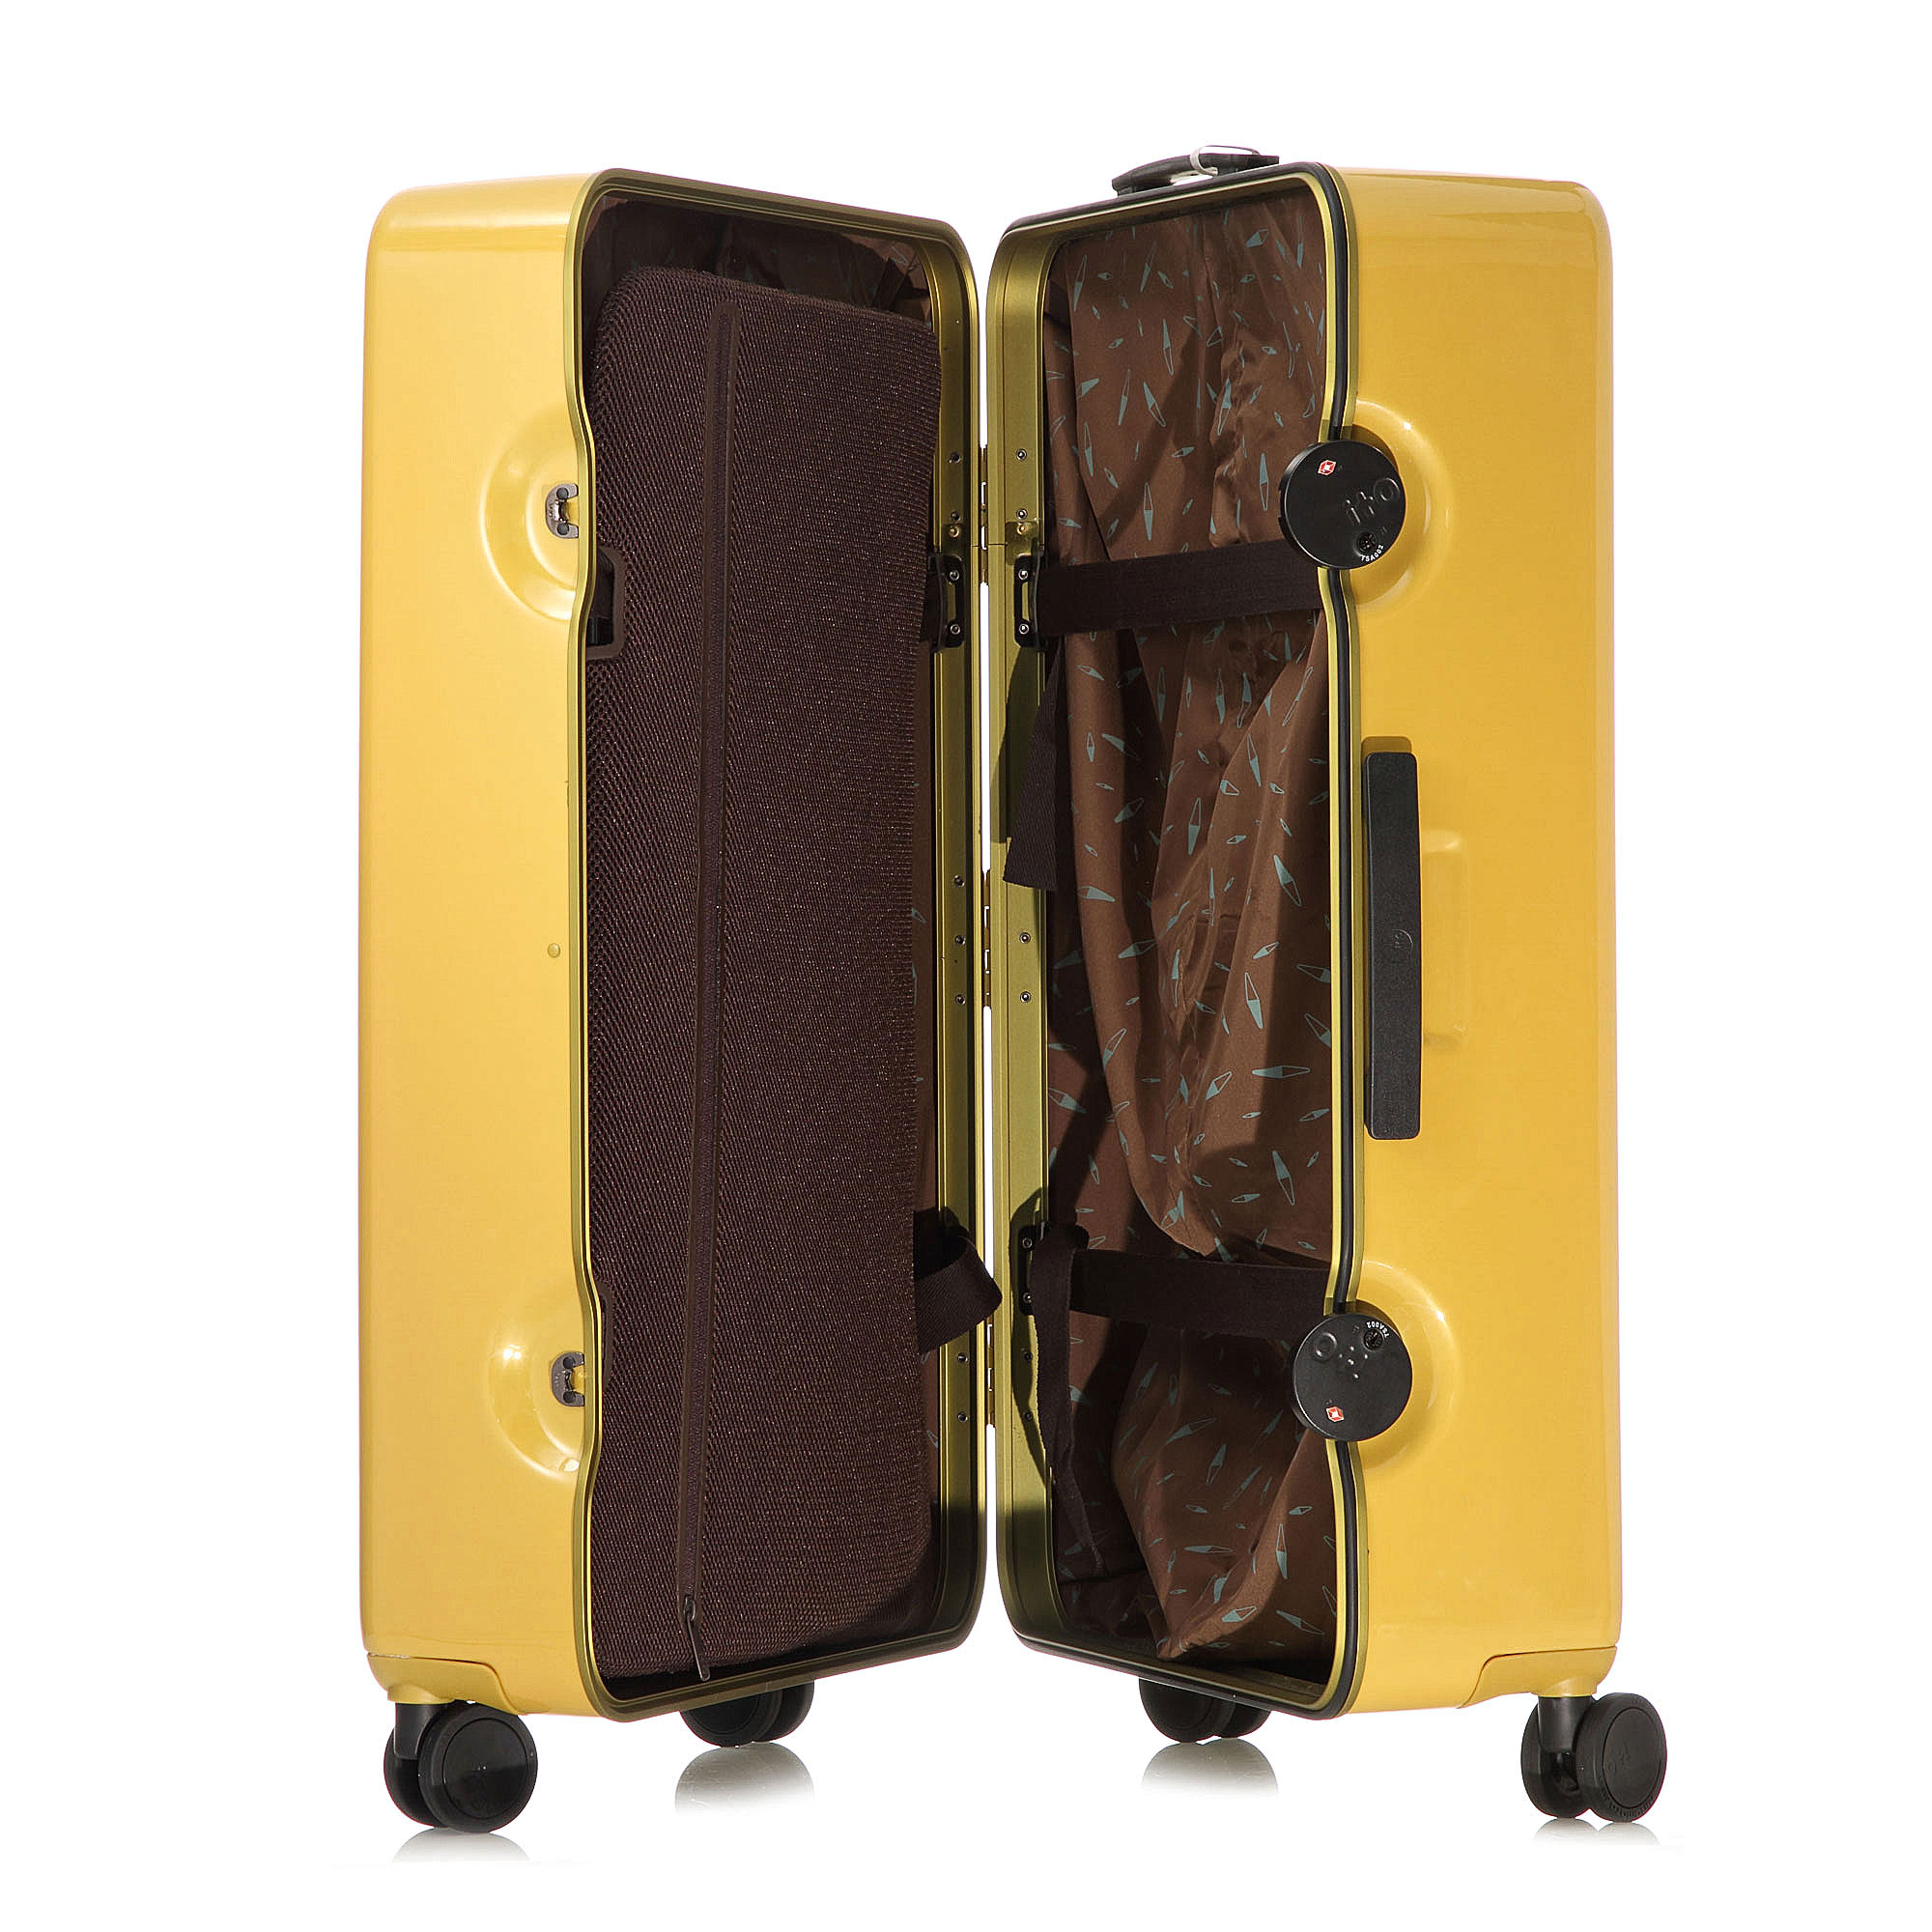suitcase: (350, 149, 1668, 1826)
